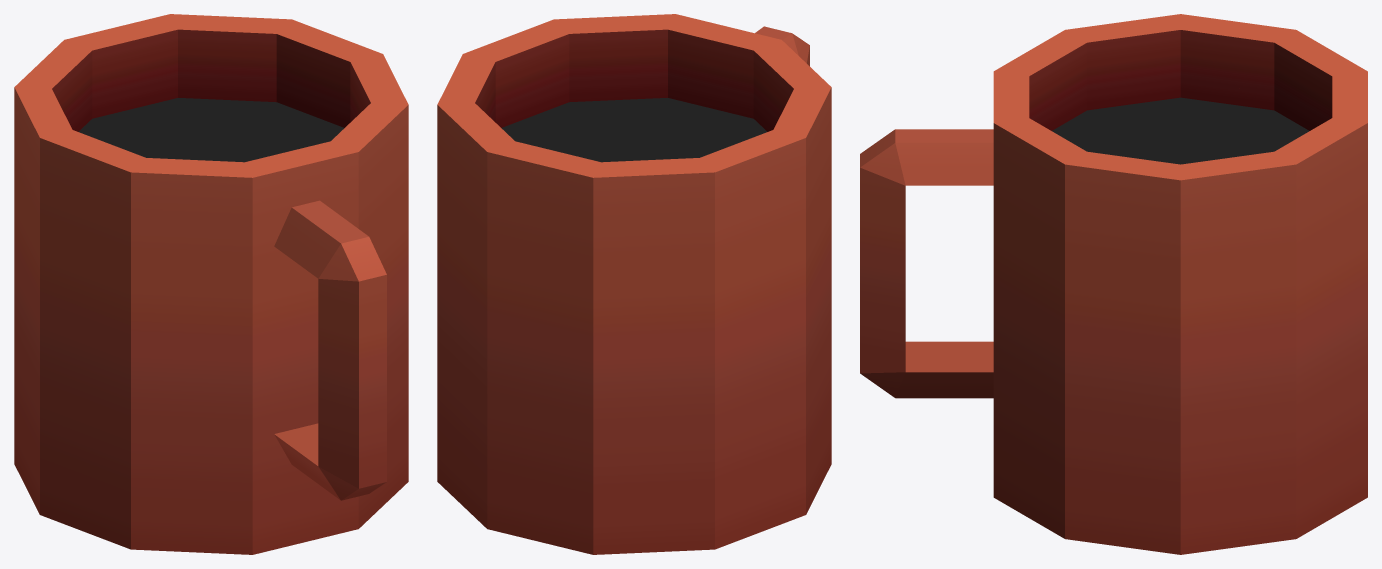
The model's file is Coffee_Mug_Breakable Two.fbx.
The picture shows the model from 3 angles, left to right: view 1: azimuth 30°, elevation 25°; view 2: azimuth 150°, elevation 25°; view 3: azimuth 270°, elevation 25°; orthographic projection.
Visible parts, largest first — view 1: Coffee_Mug1, Coffee_Mug2, Coffee_Mug3, Coffee_Mug4; view 2: Coffee_Mug1, Coffee_Mug2, Coffee_Mug3, Coffee_Mug4; view 3: Coffee_Mug4, Coffee_Mug1, Coffee_Mug2, Coffee_Mug3.
Part boxes in pixels (<box>): Coffee_Mug1: <box>14,117,386,554</box>; Coffee_Mug2: <box>14,14,363,178</box>; Coffee_Mug3: <box>253,47,408,245</box>; Coffee_Mug4: <box>356,215,408,529</box>; Coffee_Mug1: <box>536,25,831,554</box>; Coffee_Mug2: <box>437,64,769,479</box>; Coffee_Mug3: <box>437,14,719,360</box>; Coffee_Mug4: <box>437,310,537,540</box>; Coffee_Mug4: <box>993,229,1367,554</box>; Coffee_Mug1: <box>860,14,1251,398</box>; Coffee_Mug2: <box>1143,20,1367,406</box>; Coffee_Mug3: <box>993,96,1332,374</box>.
Bounding box in the file's own units: 13.78 × 14.47 × 17.78.
1 material, 1 textured.
